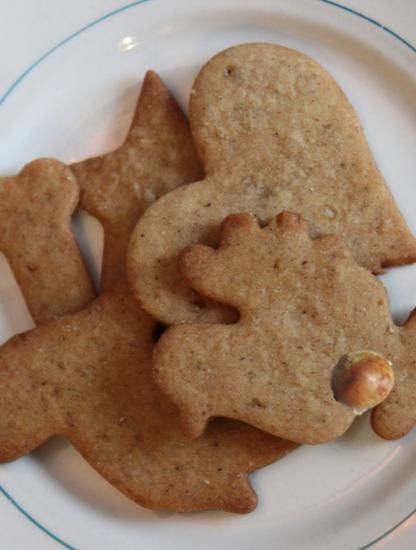Onion: (328, 345, 395, 412)
